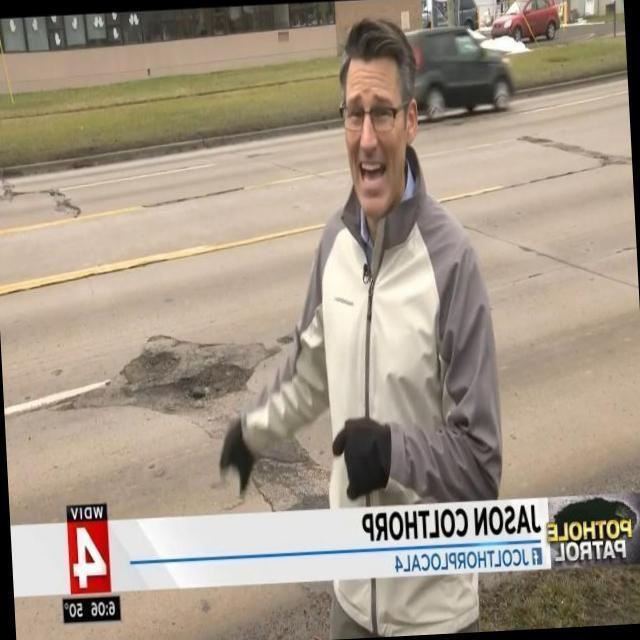Pothole: (71, 339, 267, 425)
